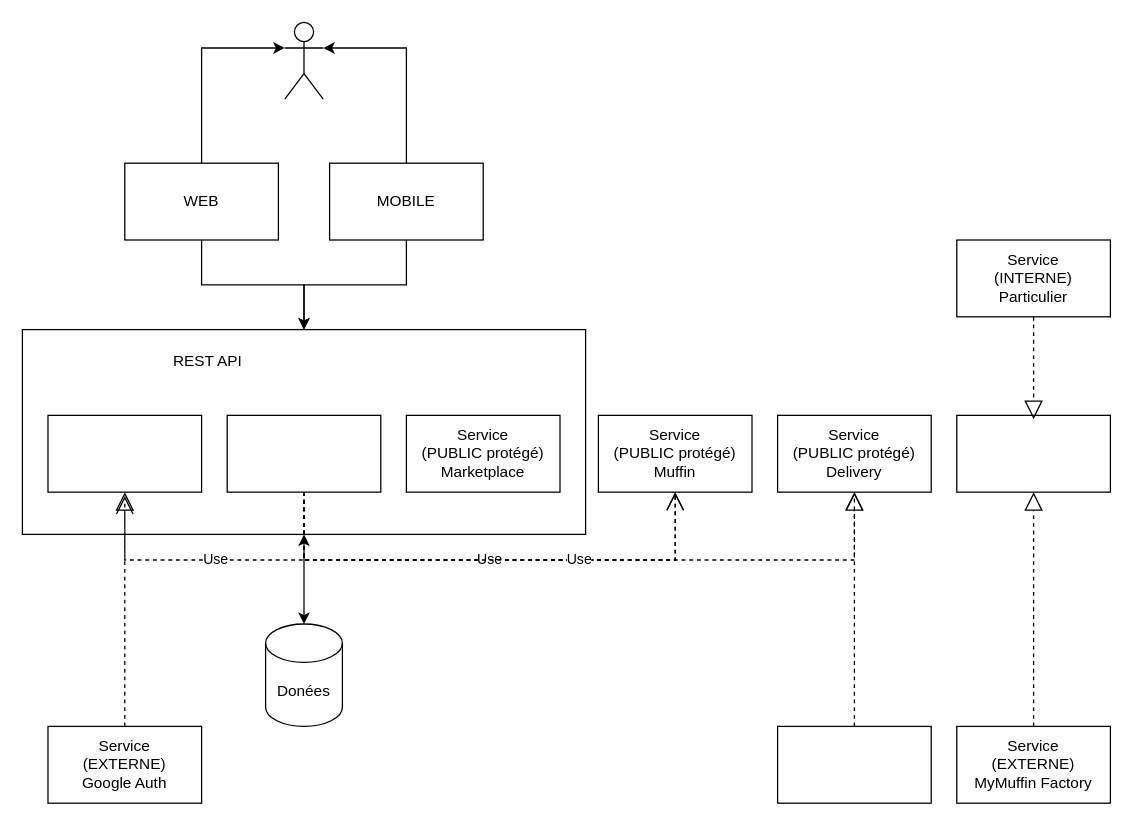
Some shapes in this 1133 by 826 pixel diagram are drawn without their labels. The centre of each missing label's shape, as x and y in pixels:
Actor: (303,60)
Service (EXTERNE) Uber Serve: (853,764)
Service (PUBLIC protégé) Commande: (303,453)
Service (PUBLIC protégé) Factory: (1033,453)
Service (PUBLIC) Authentification: (124,453)
